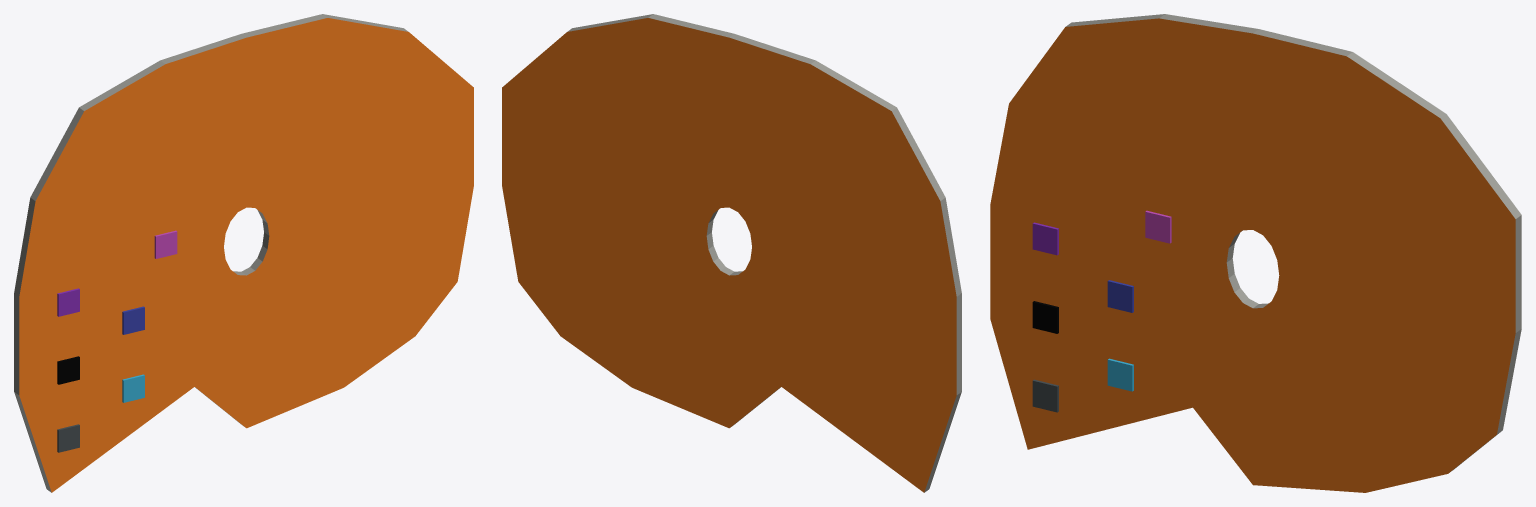
Rendered from item_palette6.obj.
3 views of the same model, side by side, from view 1: azimuth 30°, elevation 25°; view 2: azimuth 150°, elevation 25°; view 3: azimuth 330°, elevation 25° (orthographic). The views are drawn at different scales.
Parts seen in each view (by area): view 1: wooden_palette_with_open_thumb_hole_and_grip_notch, native_cumulative_paint_state; view 2: wooden_palette_with_open_thumb_hole_and_grip_notch; view 3: wooden_palette_with_open_thumb_hole_and_grip_notch, native_cumulative_paint_state.
Part boxes in pixels (left/top/right/bottom): wooden_palette_with_open_thumb_hole_and_grip_notch: left=14, top=14, right=473, bottom=492; native_cumulative_paint_state: left=57, top=230, right=177, bottom=452; wooden_palette_with_open_thumb_hole_and_grip_notch: left=502, top=14, right=961, bottom=492; wooden_palette_with_open_thumb_hole_and_grip_notch: left=990, top=14, right=1521, bottom=492; native_cumulative_paint_state: left=1032, top=210, right=1171, bottom=412.
Bounding box in the file's own units: 0.875 × 0.75 × 0.0219.
